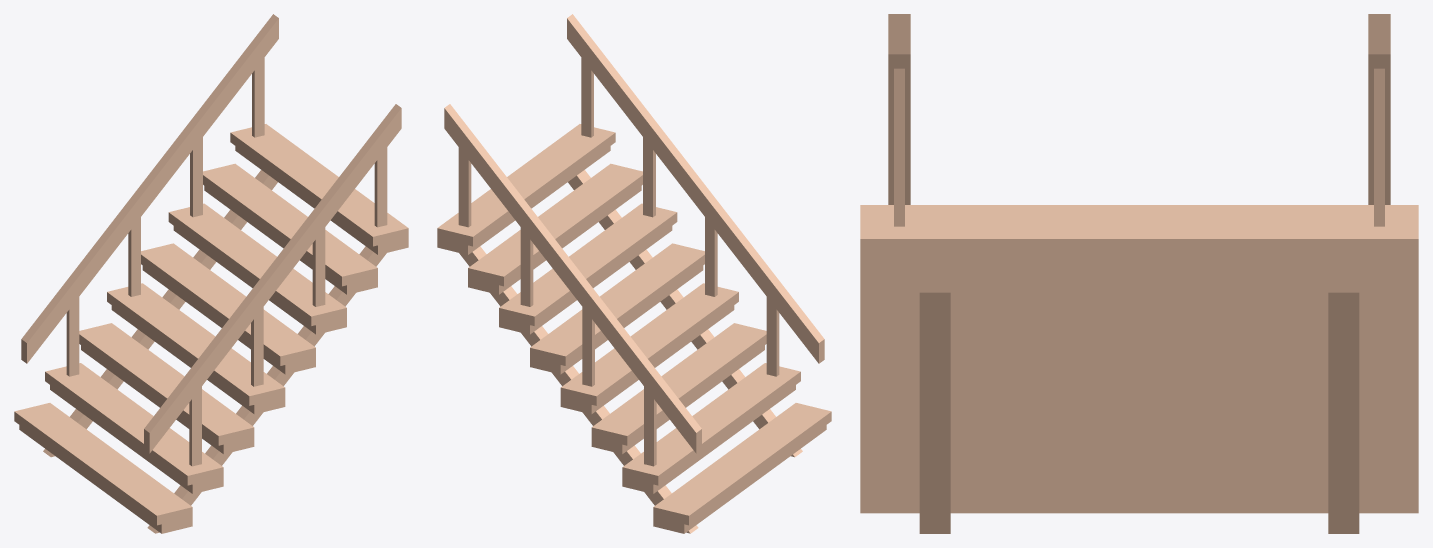
3 renders of one model, left to right at view 1: azimuth 30°, elevation 25°; view 2: azimuth 150°, elevation 25°; view 3: azimuth 270°, elevation 25°, orthographic. The views are drawn at different scales.
Visible parts, largest first — view 1: stairsWideWoodHandrail, rail; view 2: stairsWideWoodHandrail, rail; view 3: stairsWideWoodHandrail, rail.
Part boxes in pixels (x1,y1,x2,y2): stairsWideWoodHandrail: (14, 124, 408, 533); rail: (21, 14, 401, 466); stairsWideWoodHandrail: (437, 124, 831, 533); rail: (444, 14, 824, 466); stairsWideWoodHandrail: (860, 205, 1418, 533); rail: (888, 14, 1390, 226).
Size of the model in its own units: 1.02 by 1.44 by 1.
